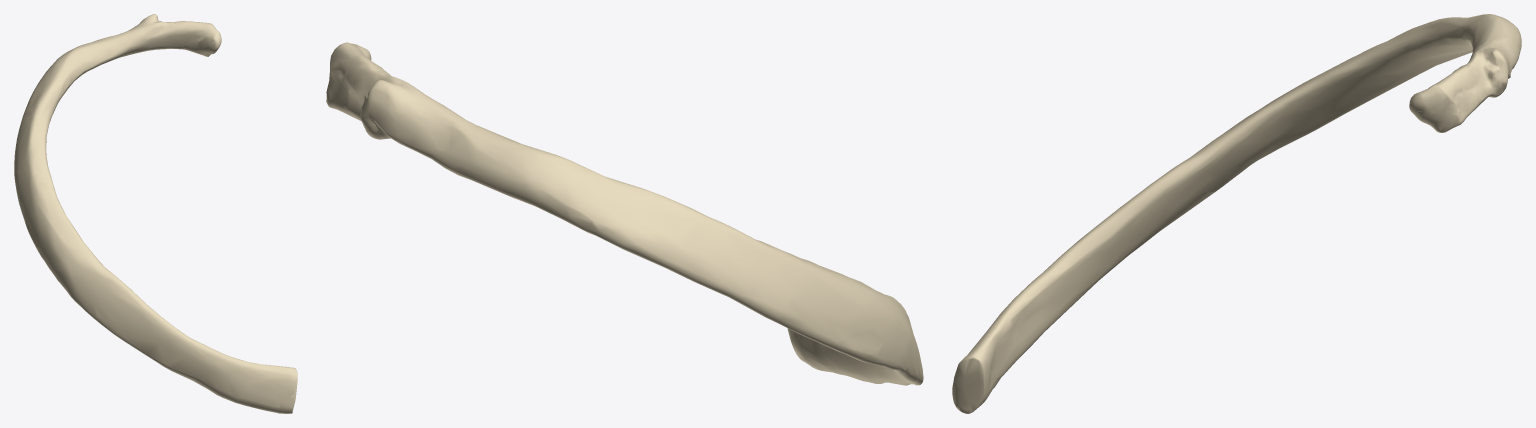
The model's file is esqueleto-third-rib-r.glb.
3 views of the same model, side by side, from view 1: azimuth 30°, elevation 25°; view 2: azimuth 150°, elevation 25°; view 3: azimuth 270°, elevation 25° (orthographic). The views are drawn at different scales.
Visible parts, largest first — view 1: Third rib.r; view 2: Third rib.r; view 3: Third rib.r.
Boxes of the visible parts, x1,y1,x2,y2 form: Third rib.r: (14, 14, 297, 413); Third rib.r: (326, 42, 923, 385); Third rib.r: (952, 14, 1521, 413).
Bounding box in the file's own units: 0.0955 × 0.1058 × 0.1392.
